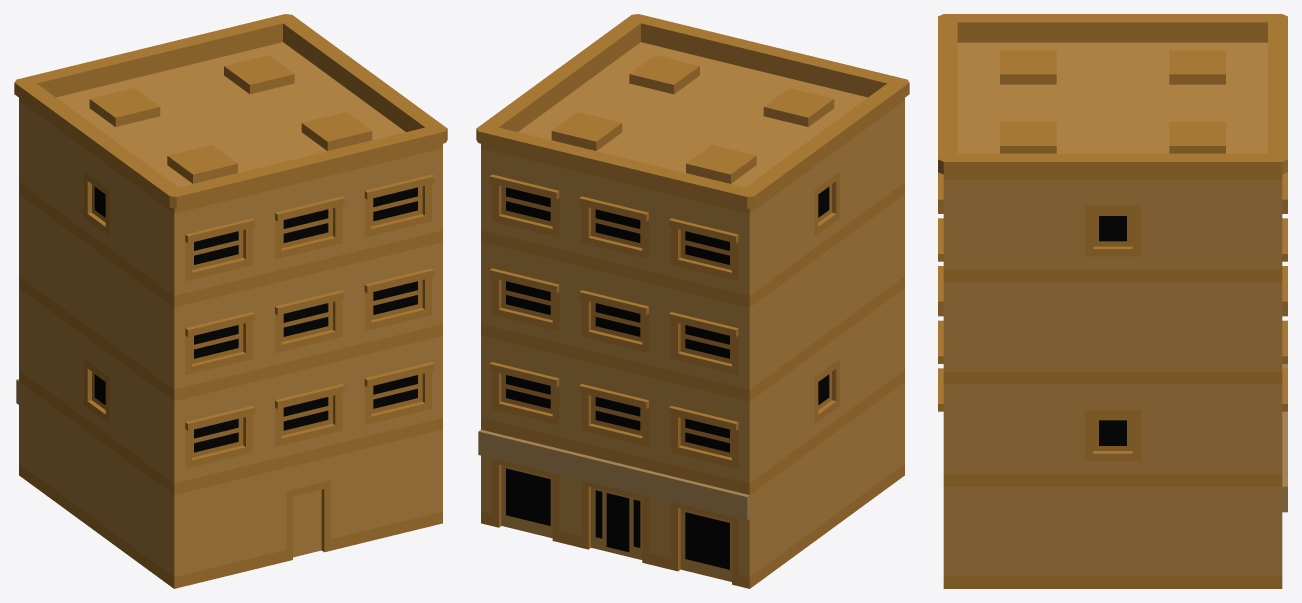
The model's file is building2.glb.
3 views of the same model, side by side, from view 1: azimuth 30°, elevation 25°; view 2: azimuth 150°, elevation 25°; view 3: azimuth 270°, elevation 25° (orthographic). The views are drawn at different scales.
Size of the model in its own units: 12.4 by 16.8 by 12.4.
